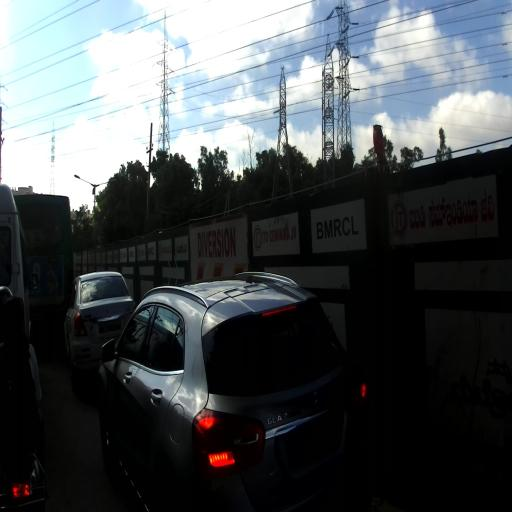street_light_0: (92, 178, 117, 196), (74, 174, 96, 194)
